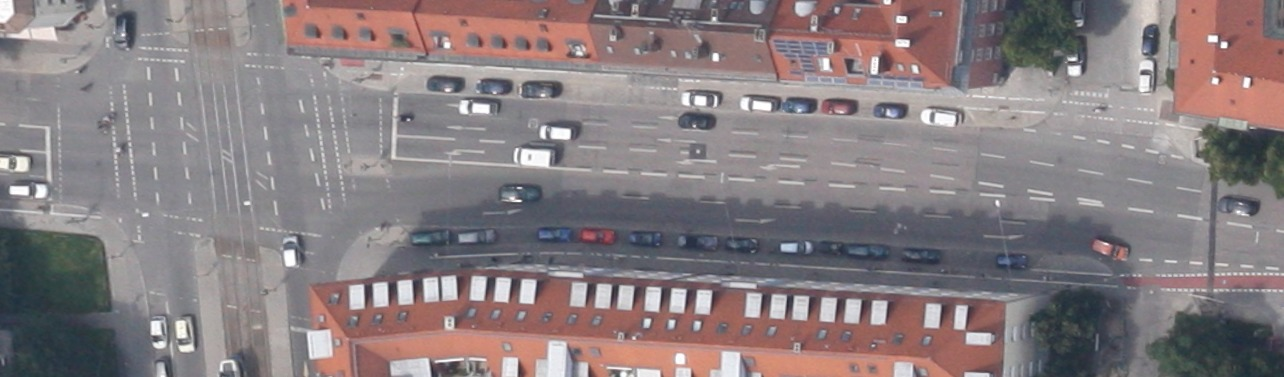car: (1091, 236, 1130, 262), (1216, 195, 1257, 217), (919, 107, 962, 126), (498, 184, 541, 202), (174, 315, 194, 353), (847, 243, 889, 260), (901, 246, 940, 264), (281, 234, 301, 269), (410, 229, 451, 246), (677, 233, 718, 250), (426, 75, 464, 93), (677, 111, 715, 129), (538, 123, 576, 141), (8, 182, 48, 199), (520, 80, 557, 98), (1066, 38, 1083, 76), (114, 15, 132, 50), (629, 228, 662, 247), (458, 99, 497, 115), (149, 315, 167, 349), (680, 91, 718, 107), (739, 96, 776, 112), (457, 229, 496, 244), (779, 238, 813, 255), (725, 236, 758, 253), (475, 78, 510, 94), (821, 98, 856, 114), (1138, 59, 1154, 94), (1141, 23, 1159, 54), (873, 101, 907, 117), (996, 252, 1027, 269), (580, 228, 615, 243), (782, 97, 814, 113), (537, 226, 571, 241), (819, 240, 843, 256), (1072, 0, 1085, 27)
